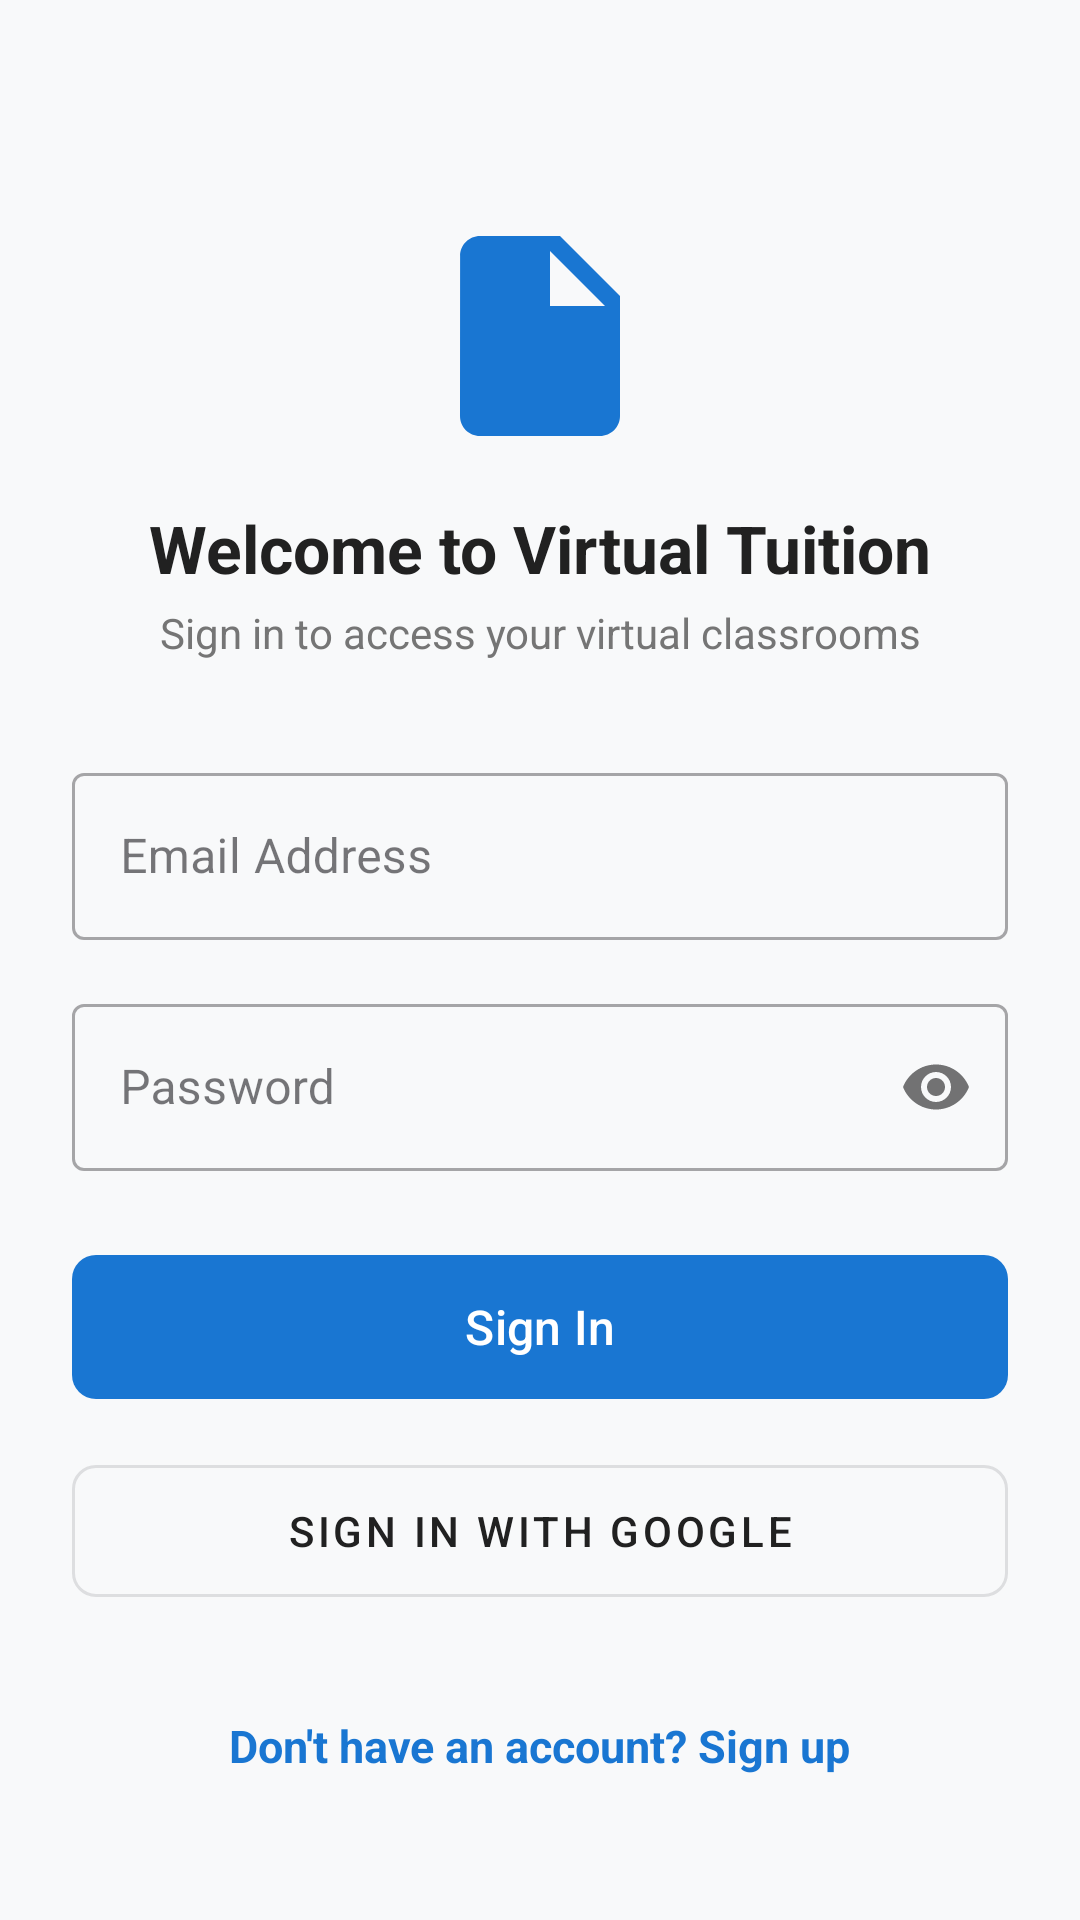

Icons on this 1080 x 1920 Android screen, each with its box as (x1=x1, y1=y1, x2=x2, y2=y2):
materials: (x1=460, y1=236, x2=620, y2=436)
